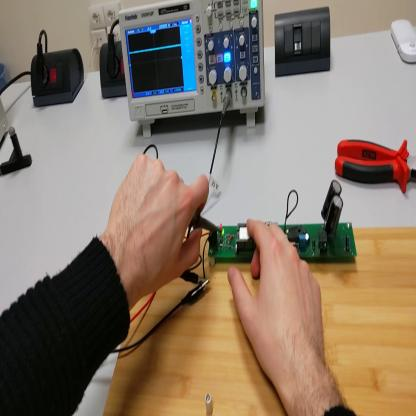hand: (229, 218, 327, 386), (109, 156, 209, 297)
high voltage board: (185, 178, 358, 275)
oscilloscope: (119, 1, 267, 141)
oscilloscope probe tip: (189, 219, 221, 239)
pliers: (336, 135, 416, 196)
socket: (28, 46, 84, 111), (100, 40, 129, 102)
working area: (102, 222, 416, 416)
